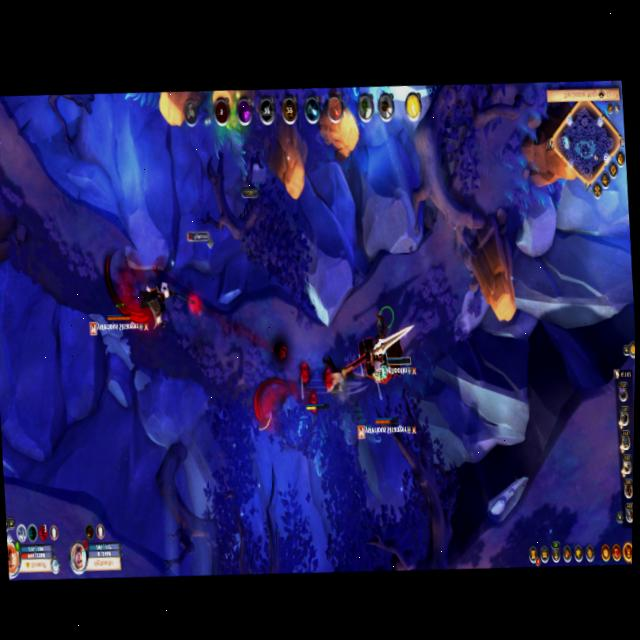red: (79, 255, 211, 345), (348, 319, 422, 447), (297, 341, 360, 420), (374, 300, 418, 381)
tree: (454, 197, 525, 330), (514, 86, 581, 185), (261, 106, 318, 222), (315, 93, 365, 170), (150, 88, 209, 136), (0, 170, 23, 271), (208, 89, 260, 133)
